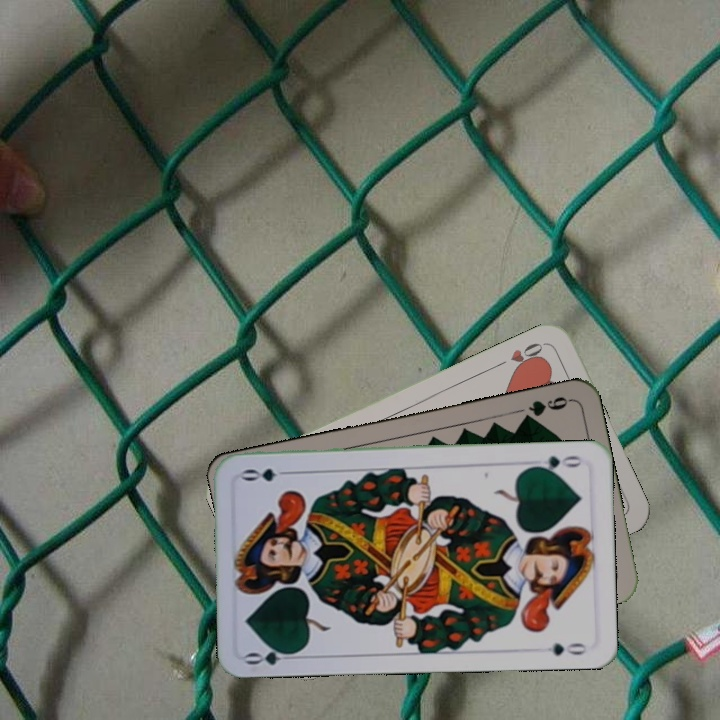G9: (517, 392, 574, 425)
GO: (242, 642, 301, 668), (527, 451, 583, 475)
HO: (491, 338, 547, 374)
